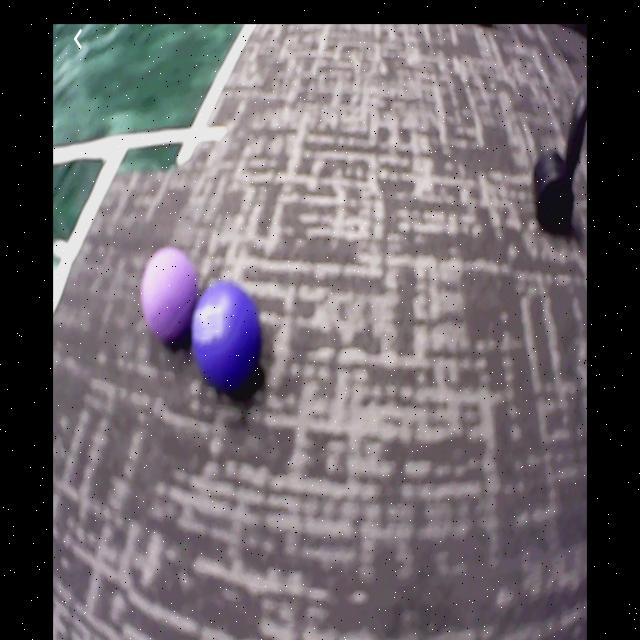ball: (194, 282, 263, 391), (142, 252, 199, 344)
